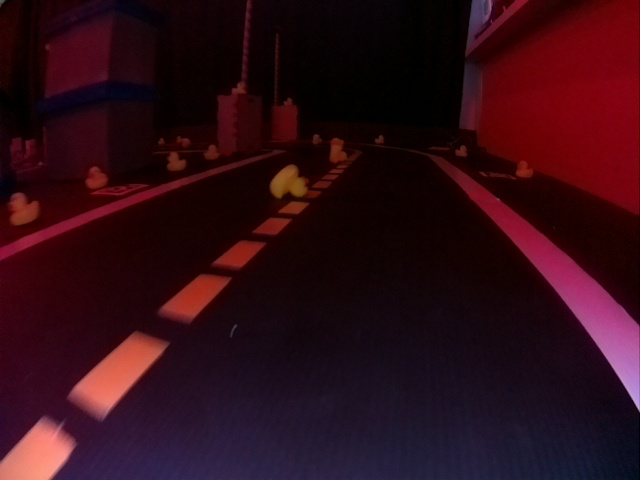Duckie: (272, 165, 307, 195), (8, 193, 39, 226), (86, 169, 108, 188), (167, 152, 187, 171), (330, 143, 344, 163), (519, 161, 533, 178), (205, 145, 219, 160), (457, 146, 467, 154)
QR code: (96, 184, 147, 195), (479, 172, 516, 180)
